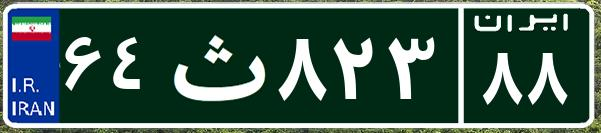2: (330, 28, 385, 110)
3: (385, 28, 445, 110)
4: (110, 28, 158, 105)
6: (57, 26, 110, 107)
8: (273, 28, 330, 110), (475, 38, 525, 113), (525, 38, 570, 115)
ث: (158, 15, 273, 115)
